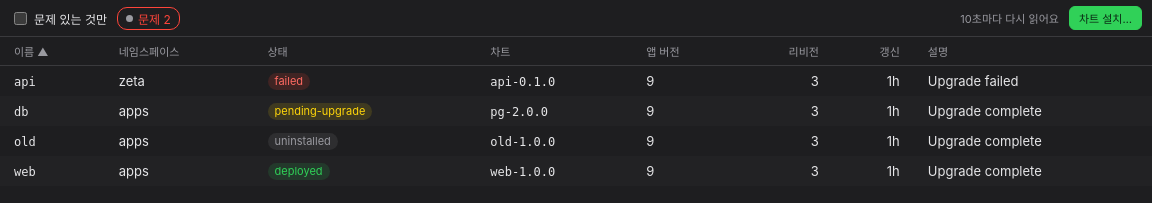
it: without secret create permission the change buttons are disabled with the missing permission as the reason
Click the text "web" at [25, 172], box [14,165,36,179]
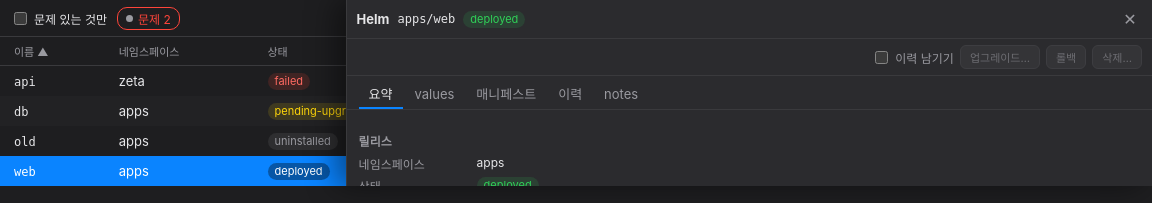
Now the button "업그레이드…" is disabled, box [960,45,1040,69]
